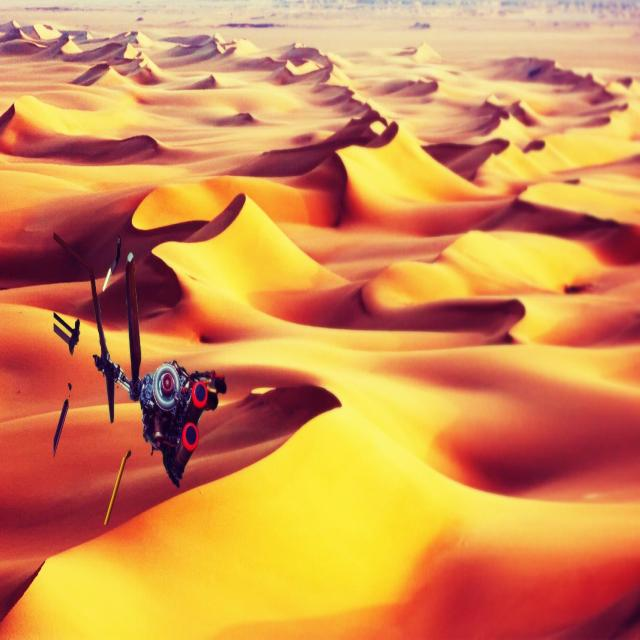airplane: (56, 235, 226, 528)
